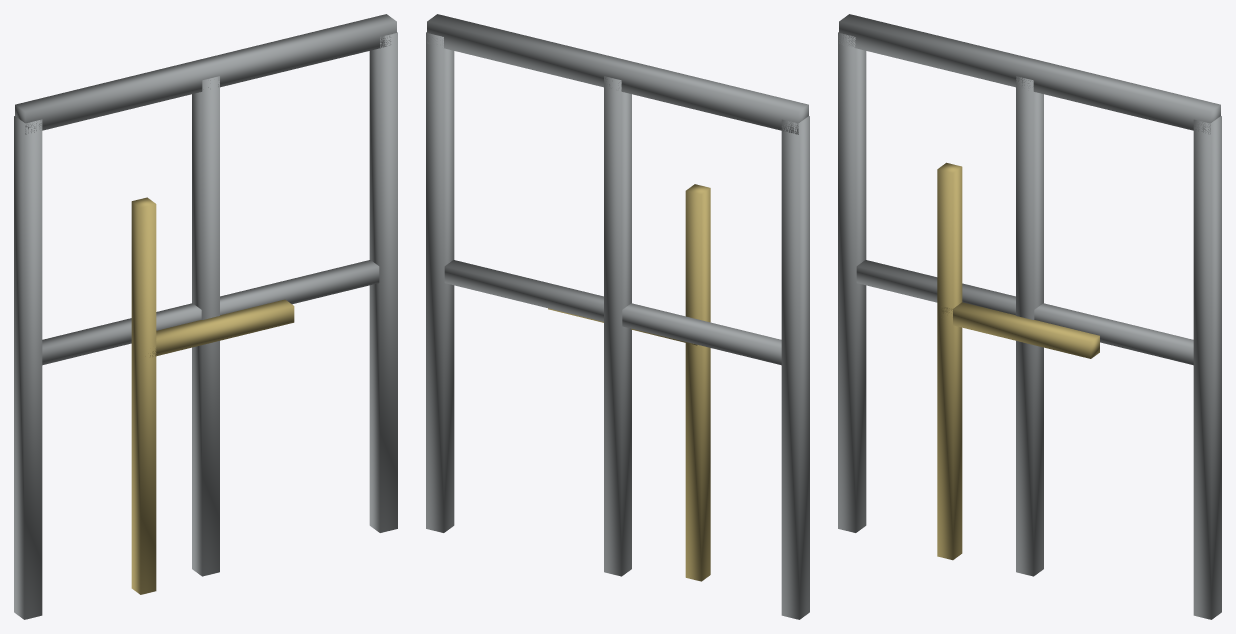
File: residential_gate_l90_h120.glb
3 views of the same model, side by side, from view 1: azimuth 30°, elevation 25°; view 2: azimuth 150°, elevation 25°; view 3: azimuth 330°, elevation 25° (orthographic).
Parts seen in each view (by area): view 1: world; view 2: world; view 3: world.
Part boxes in pixels (x1,y1,x2,y2): world: [14, 14, 397, 619]; world: [426, 14, 809, 619]; world: [838, 14, 1221, 619].
Bounding box in the file's own units: 0.945 × 1.23 × 0.0825.
